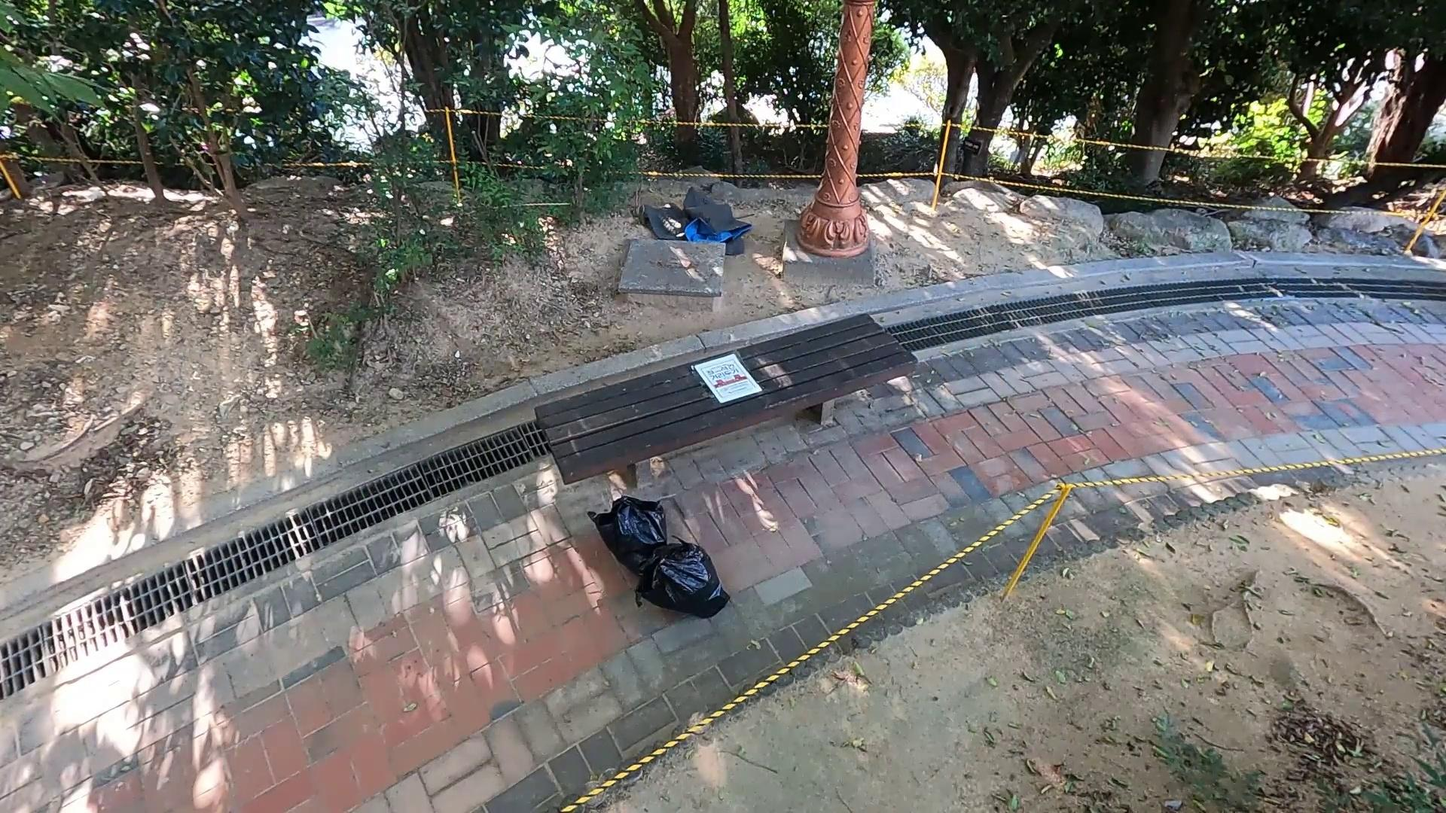trash: (633, 181, 758, 262), (630, 536, 737, 621), (589, 489, 677, 573)
